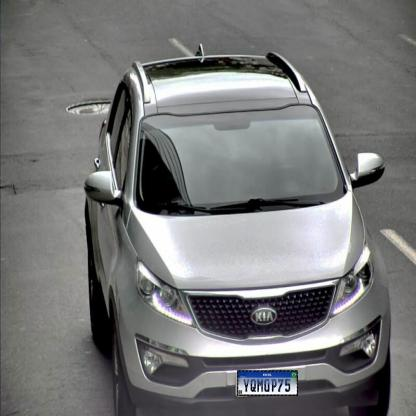PlacaM: (237, 370, 298, 396)
